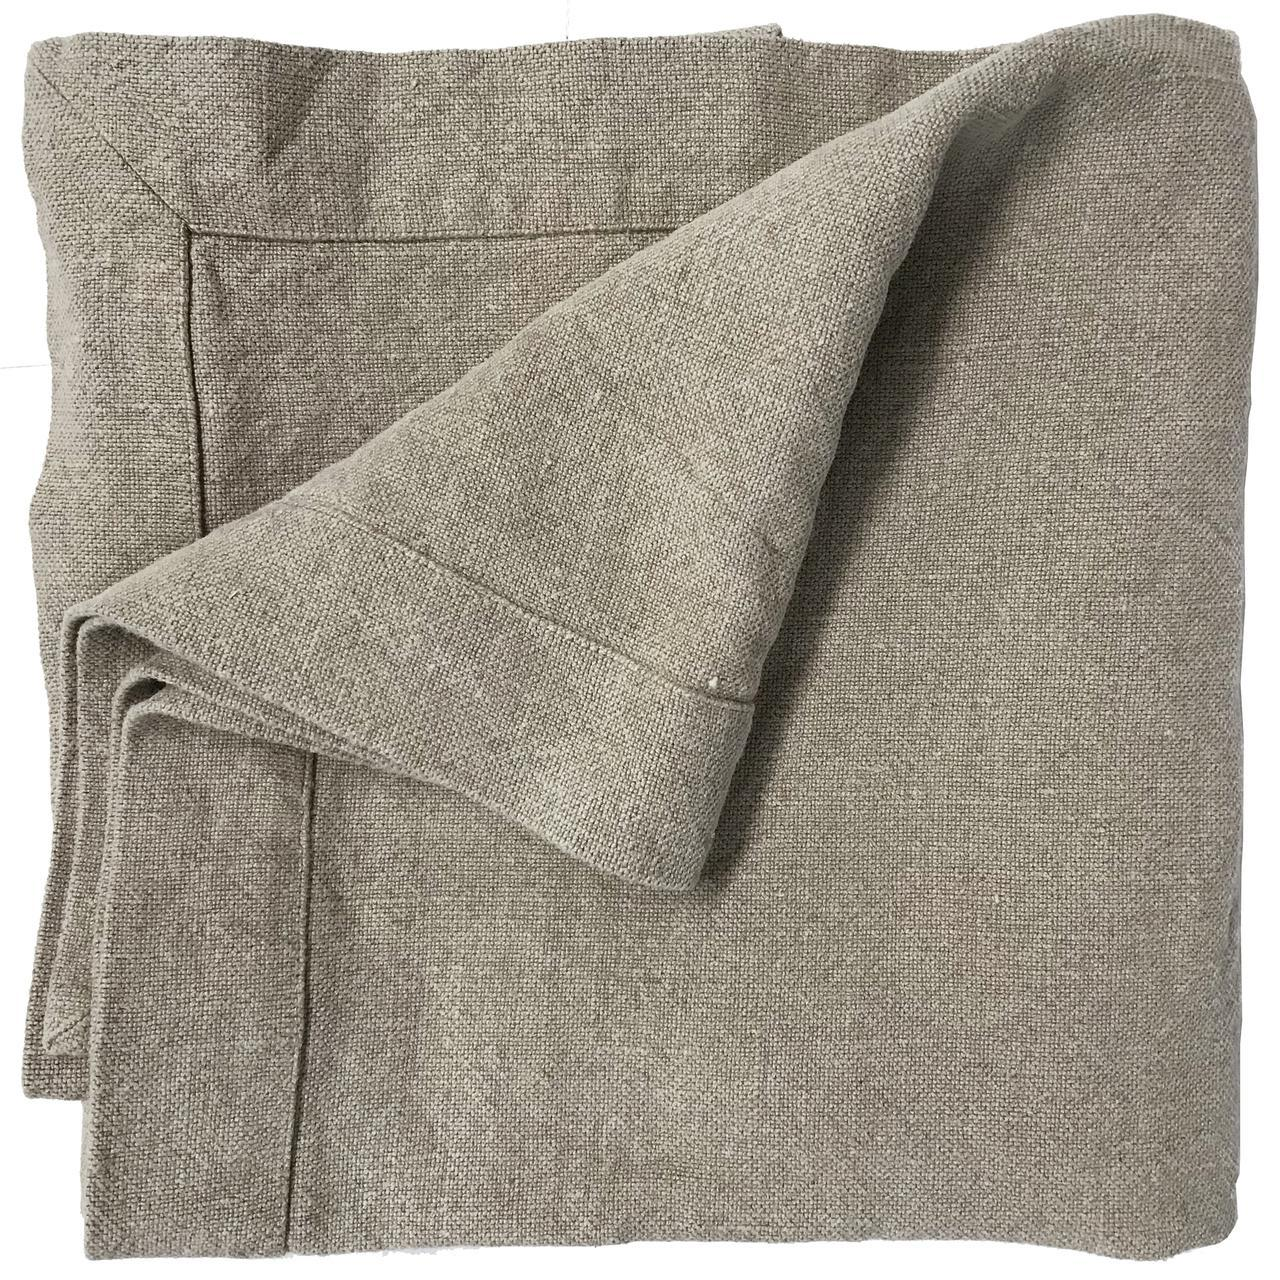towel: (0, 23, 1280, 1280)
